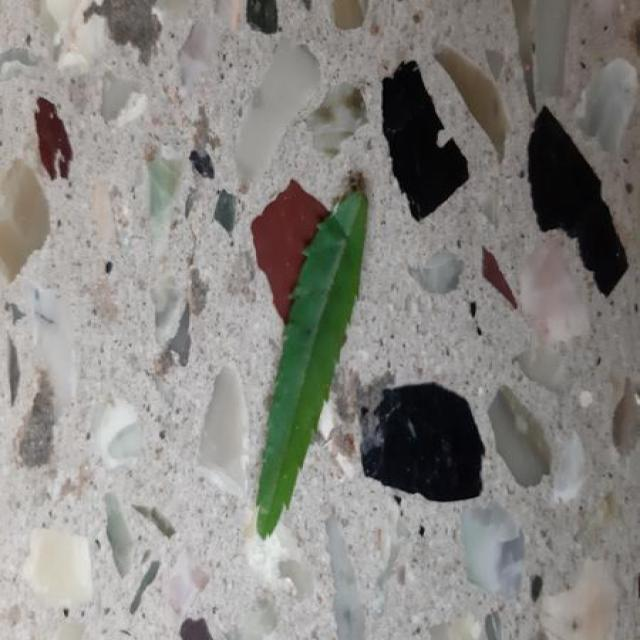marigold: (257, 190, 368, 537)
